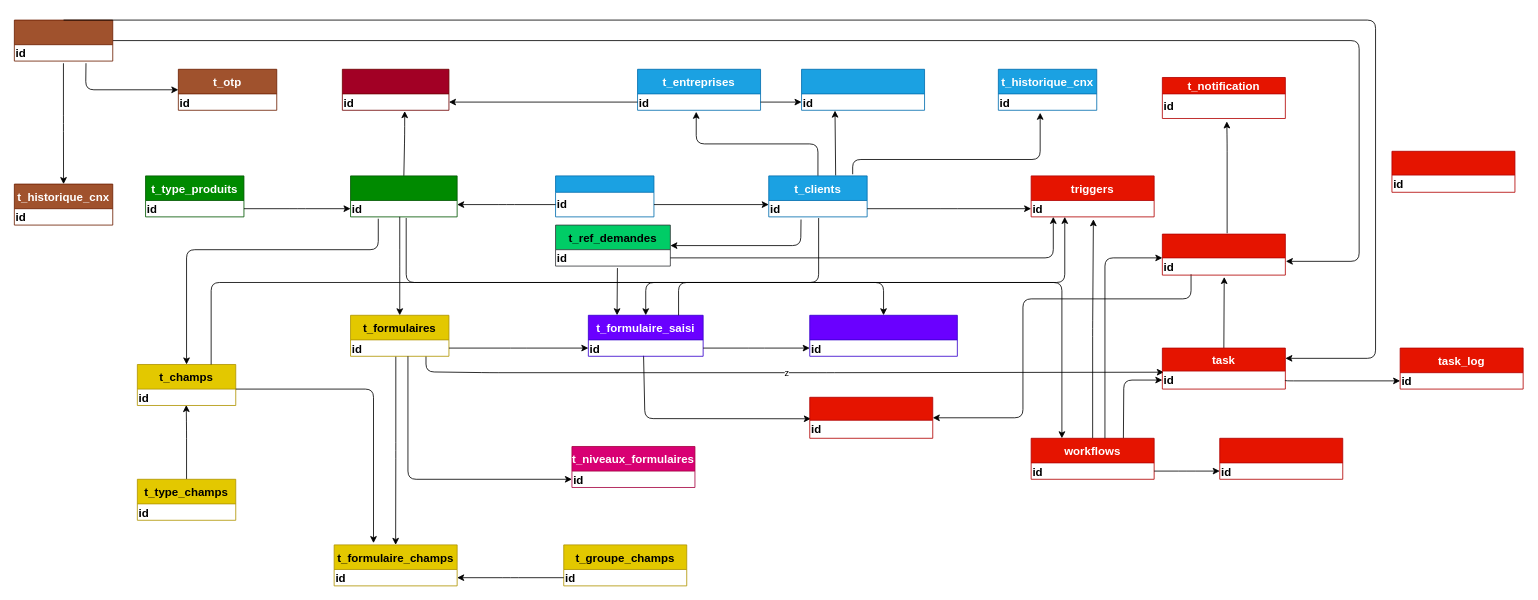
Image size: 1538x600. Some labels were removed from this diagram. The shapes that lost their labels are listed below. From the top down, each one's box as (x1, y1, x2, y2) in pixels, then its label:
(14, 19, 113, 61): users
(342, 68, 449, 110): t_conventions
(801, 68, 925, 110): t_client_entriprises
(1391, 150, 1515, 192): t_validateurs
(350, 175, 457, 217): t_produits
(555, 175, 654, 217): t_type_clients
(1162, 233, 1285, 275): t_niveau_validation
(809, 314, 957, 356): t_formulaire_saisi_valeur
(809, 396, 933, 438): t_validation_forms
(1219, 437, 1343, 479): workflows_log
